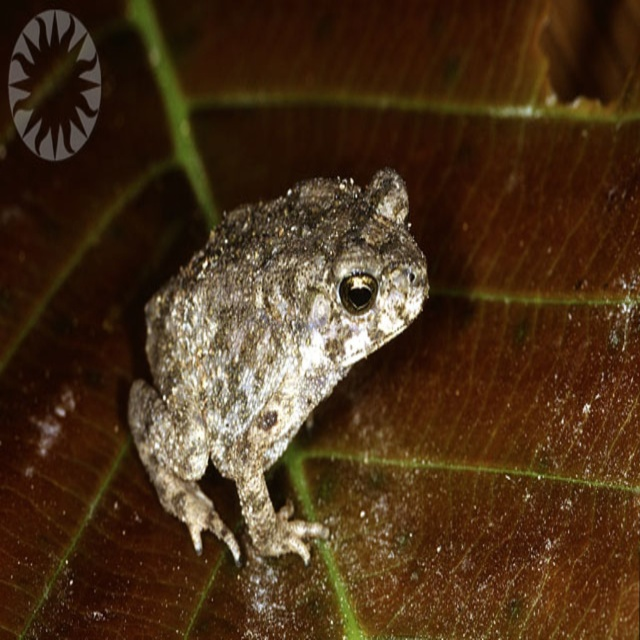Frog: (130, 172, 431, 567)
